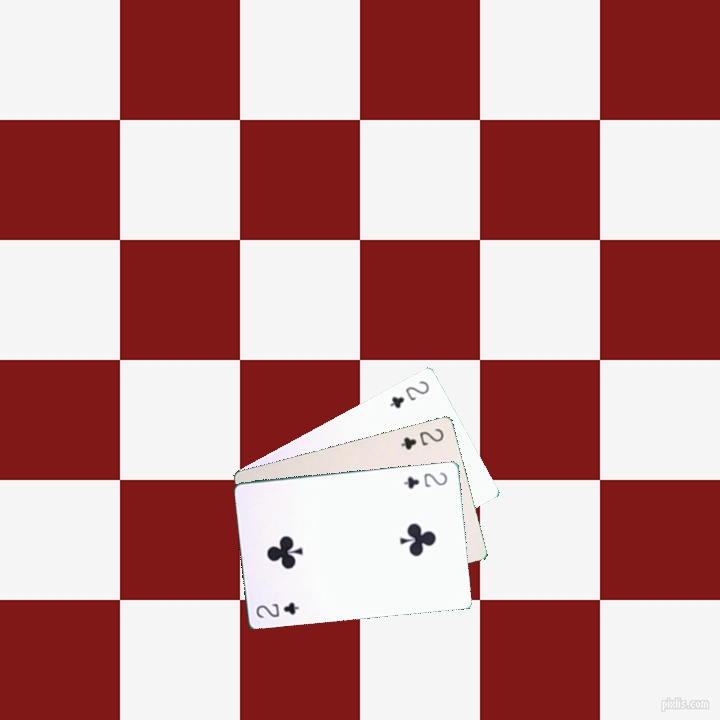2c: (385, 376, 432, 411), (396, 424, 446, 452), (400, 468, 450, 491), (252, 598, 302, 621)
